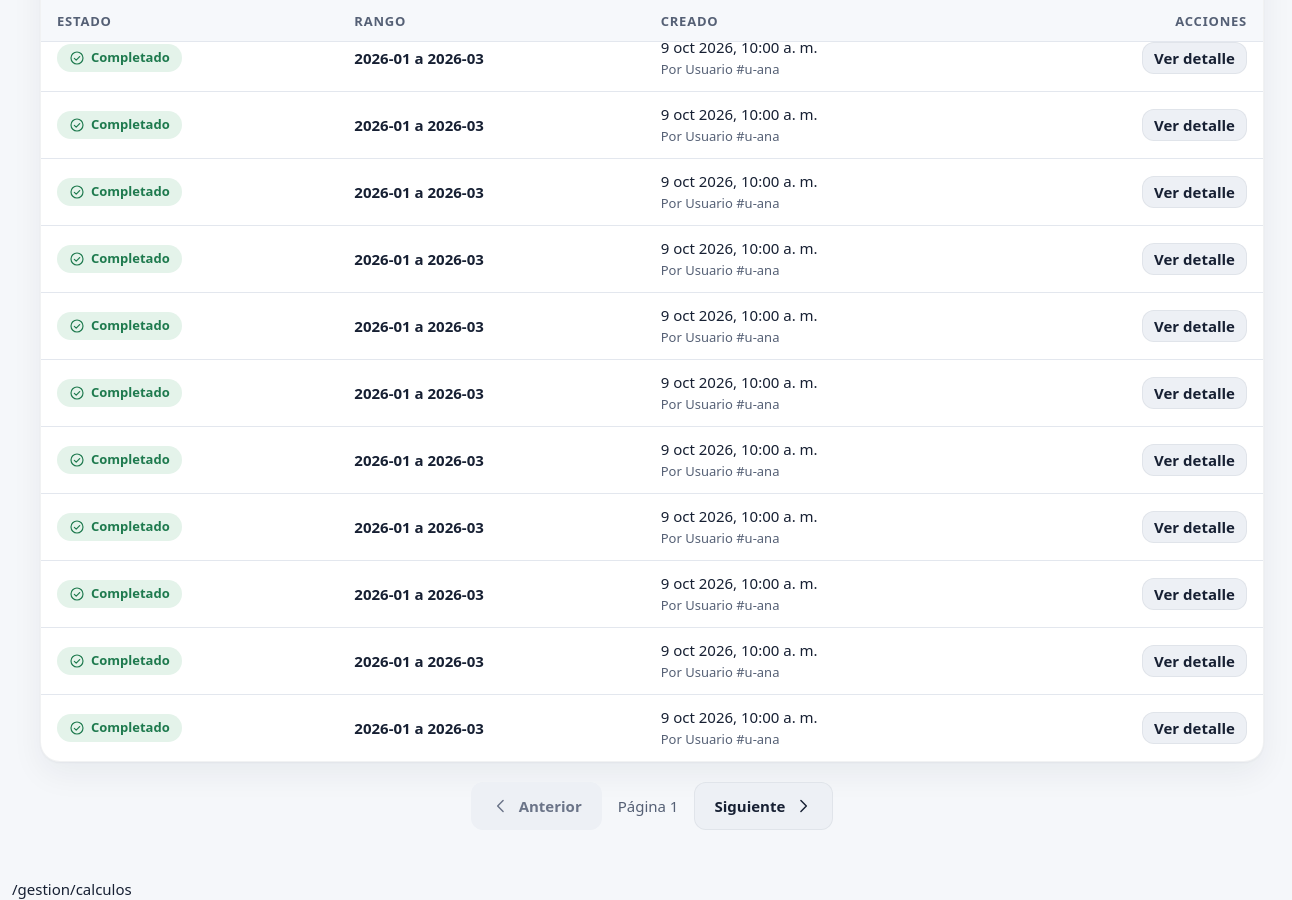
it: runs list › pages 20 at a time through the URL, and says "Página N" because there is no total
The image size is (1292, 900).
(page scrolled)
Click the button "Siguiente".
click(764, 806)  # box [694,782,833,830]
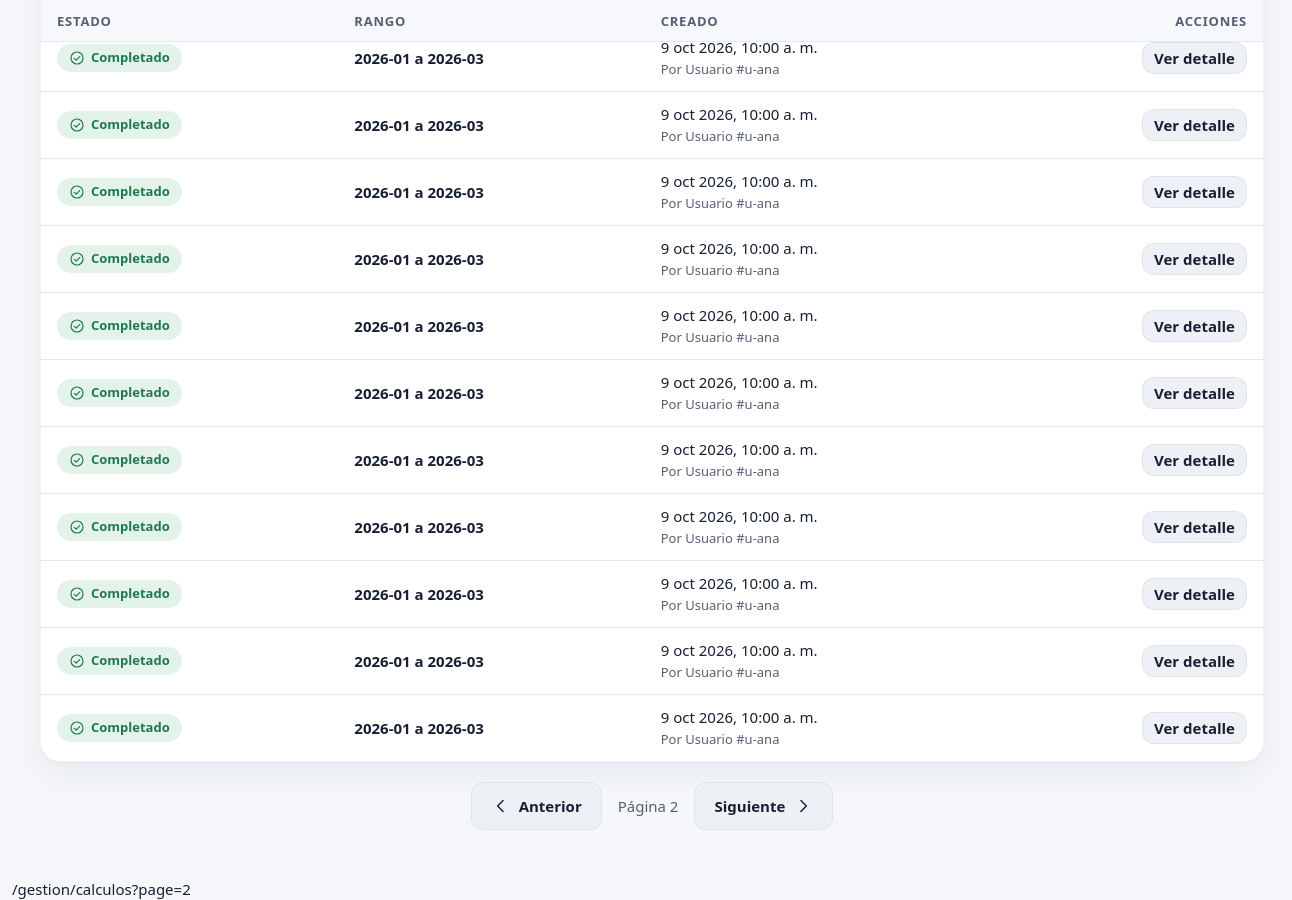
Expected: the text with test id "location" shows "page=2", [12,879,191,899]
